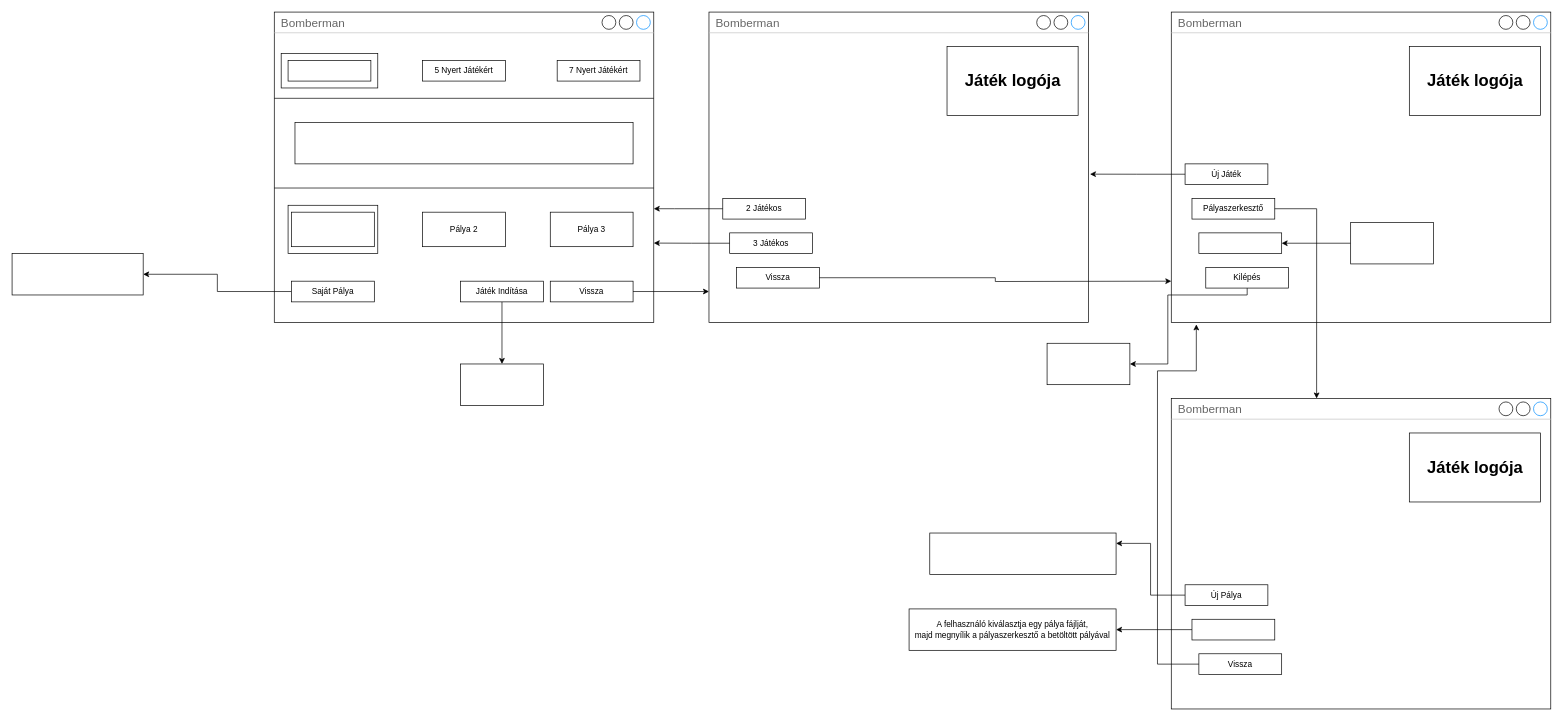
Image size: 1563x721. Some labels were removed from this diagram. The shapes that lost their labels are listed below. From the top down, each one's centre as x and y in pixels, then its label:
At point 329,70: "3 Nyert Játékért".
At point 463,143: "Meccs egyéb beállításai".
At point 332,229: "Pálya 1".
At point 1240,243: "Beállítások".
At point 1391,243: "Nem feltétlenül szükséges".
At point 77,274: "Fájlból betöltött pálya választása".
At point 501,384: "Elindítja a játékot".
At point 1088,364: "Bezárja az alkalmazást".
At point 1022,553: "Új pályát létrehozva megnyitja a pályaszerkesztőt".
At point 1233,629: "Pálya Betöltése".
